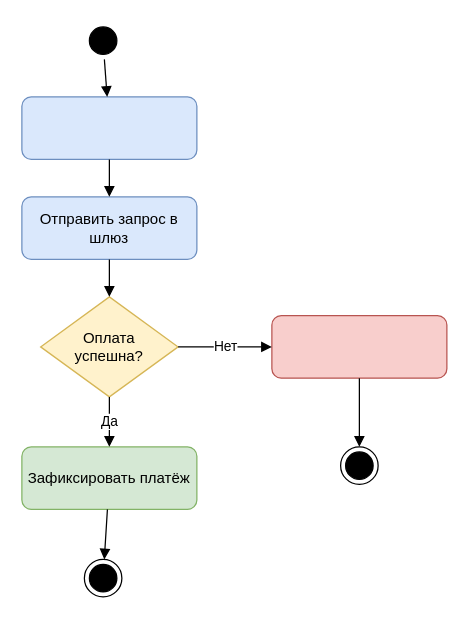
Some shapes in this 469 by 619 pixel diagram are drawn without their labels. Here are the shapes that lost their labels. From the top down, the centre of each, then its label:
the point at 109,127: Получить данные карты
the point at 359,346: Предложить повтор оплаты
